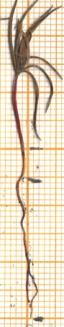flower: (0, 0, 64, 78)
root: (12, 179, 40, 320)
stem: (8, 76, 30, 180)
